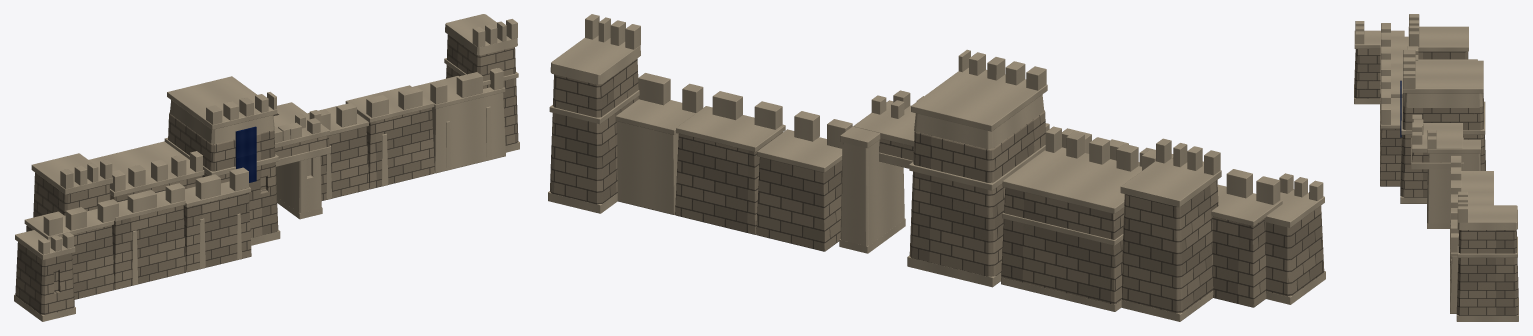
Rendered from BastionFamilyV1.glb.
3 renders of one model, left to right at view 1: azimuth 30°, elevation 25°; view 2: azimuth 150°, elevation 25°; view 3: azimuth 270°, elevation 25°, orthographic. The views are drawn at different scales.
Visible parts, largest first — view 1: BastionCurtainWest, BastionCurtainEast, BastionKeep, BastionEastTower, BastionWestTower, BastionFarWestBlock, BastionLeftWing, BastionRightGatePillar, BastionGateLintel; view 2: BastionCurtainEast, BastionKeep, BastionLeftWing, BastionFarWestBlock, BastionEastTower, BastionCurtainWest, BastionRightGatePillar, BastionWestTower, BastionGateLintel; view 3: BastionKeep, BastionEastTower, BastionCurtainWest, BastionRightGatePillar, BastionCurtainEast, BastionWestTower, BastionFarWestBlock, BastionGateLintel, BastionLeftWing.
Boxes of the visible parts, bbox=[...] form: BastionCurtainWest: bbox=[24, 167, 251, 299]; BastionCurtainEast: bbox=[307, 68, 505, 200]; BastionKeep: bbox=[164, 76, 280, 245]; BastionEastTower: bbox=[444, 14, 519, 152]; BastionWestTower: bbox=[14, 230, 75, 321]; BastionFarWestBlock: bbox=[31, 153, 112, 217]; BastionLeftWing: bbox=[89, 141, 204, 201]; BastionRightGatePillar: bbox=[273, 102, 322, 219]; BastionGateLintel: bbox=[273, 109, 331, 166]; BastionCurtainEast: bbox=[616, 73, 852, 251]; BastionKeep: bbox=[907, 49, 1047, 287]; BastionLeftWing: bbox=[1001, 126, 1155, 311]; BastionFarWestBlock: bbox=[1120, 138, 1221, 321]; BastionEastTower: bbox=[548, 14, 640, 213]; BastionCurtainWest: bbox=[1045, 123, 1282, 307]; BastionRightGatePillar: bbox=[839, 95, 905, 253]; BastionWestTower: bbox=[1264, 173, 1325, 304]; BastionGateLintel: bbox=[854, 90, 923, 168]; BastionKeep: bbox=[1400, 50, 1485, 203]; BastionEastTower: bbox=[1456, 191, 1518, 321]; BastionCurtainWest: bbox=[1380, 23, 1408, 186]; BastionRightGatePillar: bbox=[1427, 130, 1480, 228]; BastionCurtainEast: bbox=[1450, 155, 1493, 313]; BastionWestTower: bbox=[1354, 21, 1404, 104]; BastionFarWestBlock: bbox=[1408, 14, 1468, 59]; BastionGateLintel: bbox=[1411, 114, 1463, 169]; BastionLeftWing: bbox=[1407, 46, 1477, 60].
Bounding box in the file's own units: 30.12 × 7.6 × 9.02.
6 materials, 6 textured.
